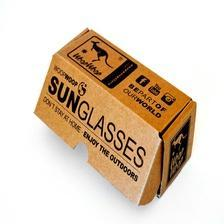box: (34, 27, 196, 206)
